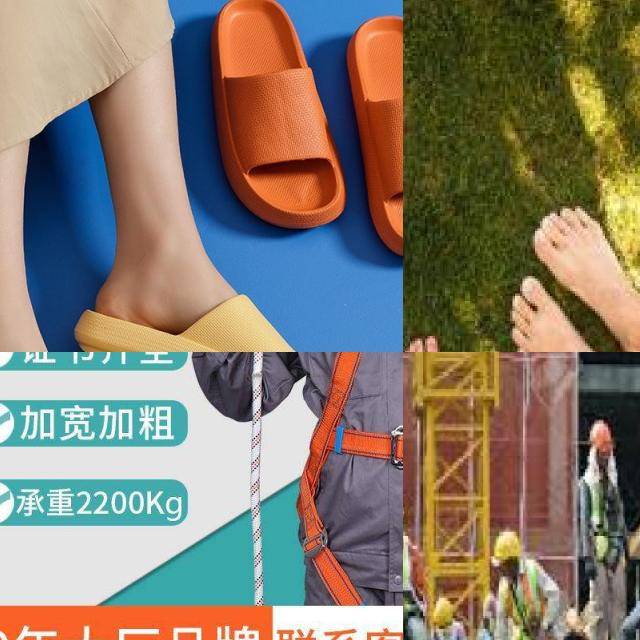Barefoots: (525, 206, 640, 352), (507, 262, 610, 352)
Harness: (306, 352, 403, 607), (493, 559, 564, 640), (579, 470, 631, 575), (403, 534, 426, 621)
Sandals: (0, 250, 369, 352)
